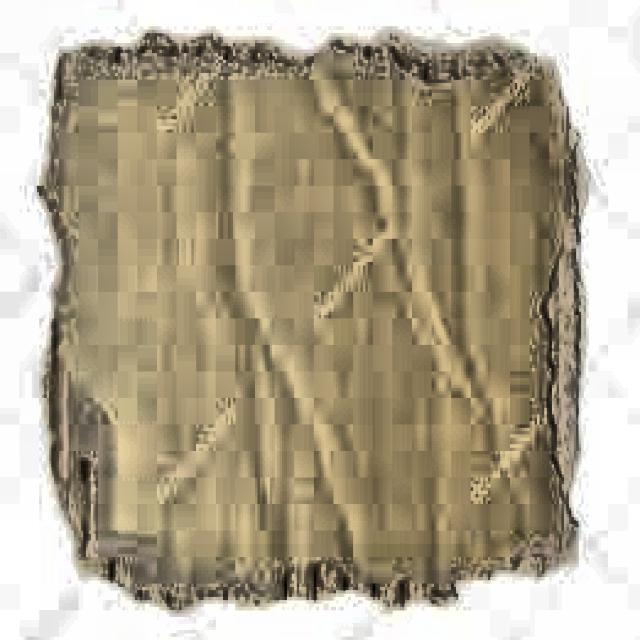Cardbox: (25, 24, 595, 618)
